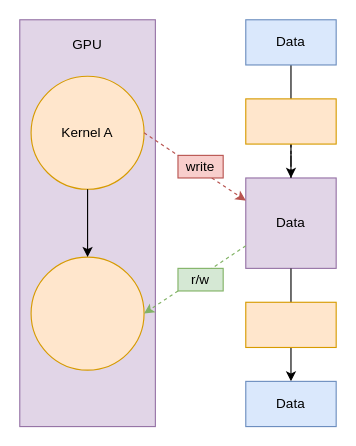
The diagram is 356 pixels wide and 446 high, and some of its shapes have lost their labels. Each missing label, with the centre of its shape:
"copy back to host" goes at point 290,324.
"copy to GPU" goes at point 290,121.
"Kernel B" goes at point 87,313.
